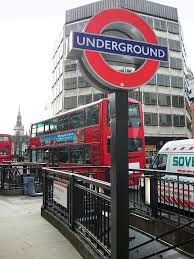London Underground: (67, 8, 169, 94)
